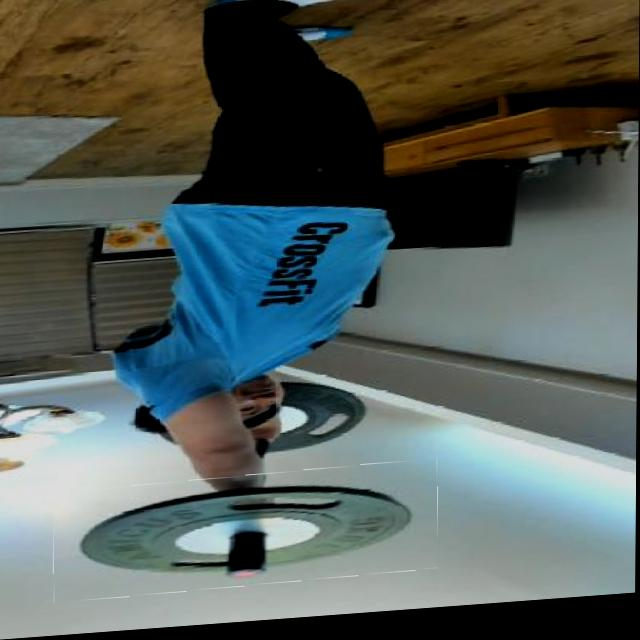barbell: (54, 468, 440, 603)
